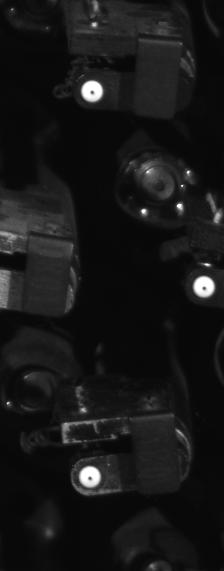fiber: (188, 270, 222, 305), (78, 75, 111, 109), (76, 462, 110, 492)
